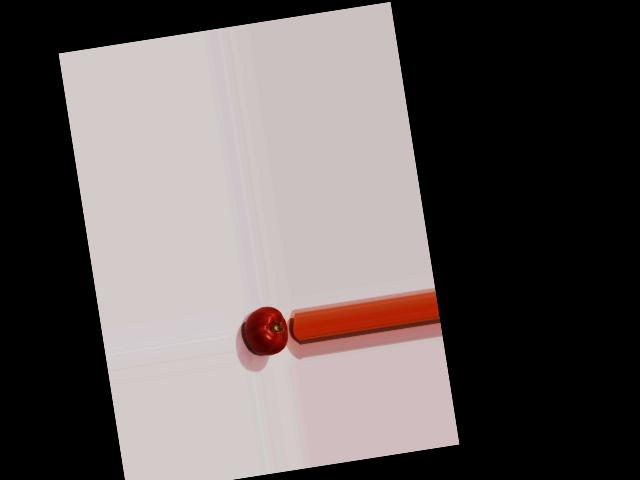tomato: (241, 303, 290, 357)
